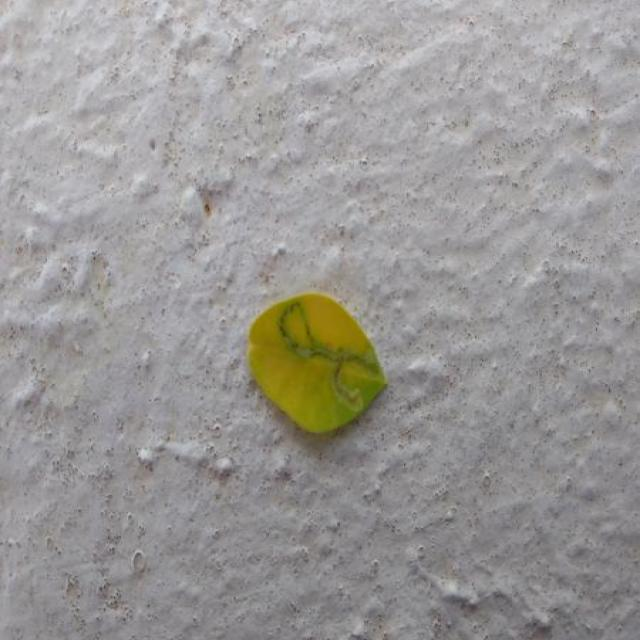drumstick: (248, 292, 387, 432)
